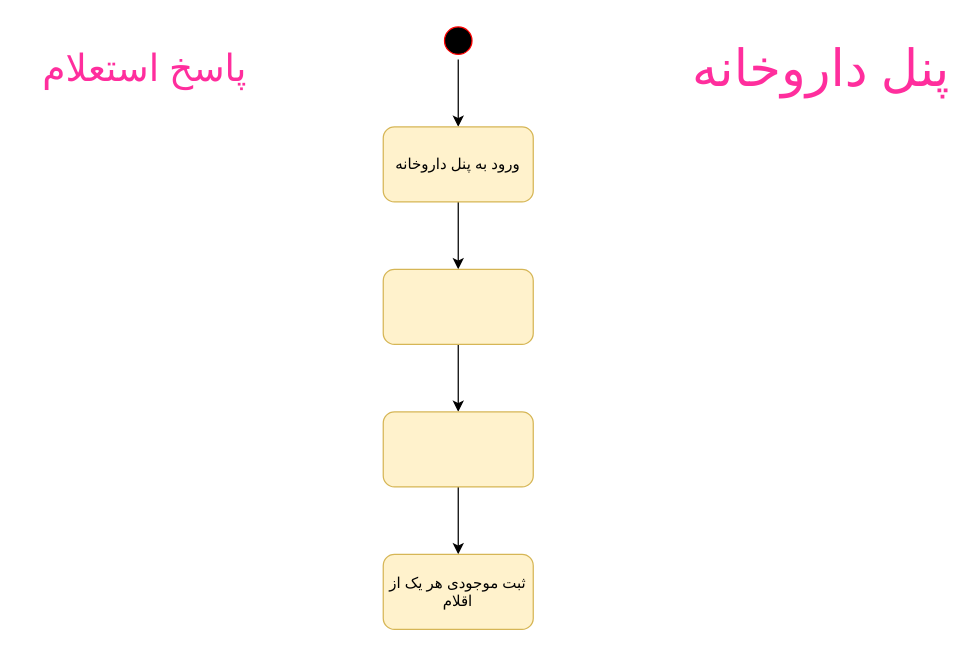
Some shapes in this 970 by 651 pixel diagram are drawn without their labels. Each missing label, with the box of its shape:
انتخاب گزینه درخواست‌ها: (382, 268, 533, 344)
انتخاب یکی از درخواست‌ها: (382, 411, 533, 487)
